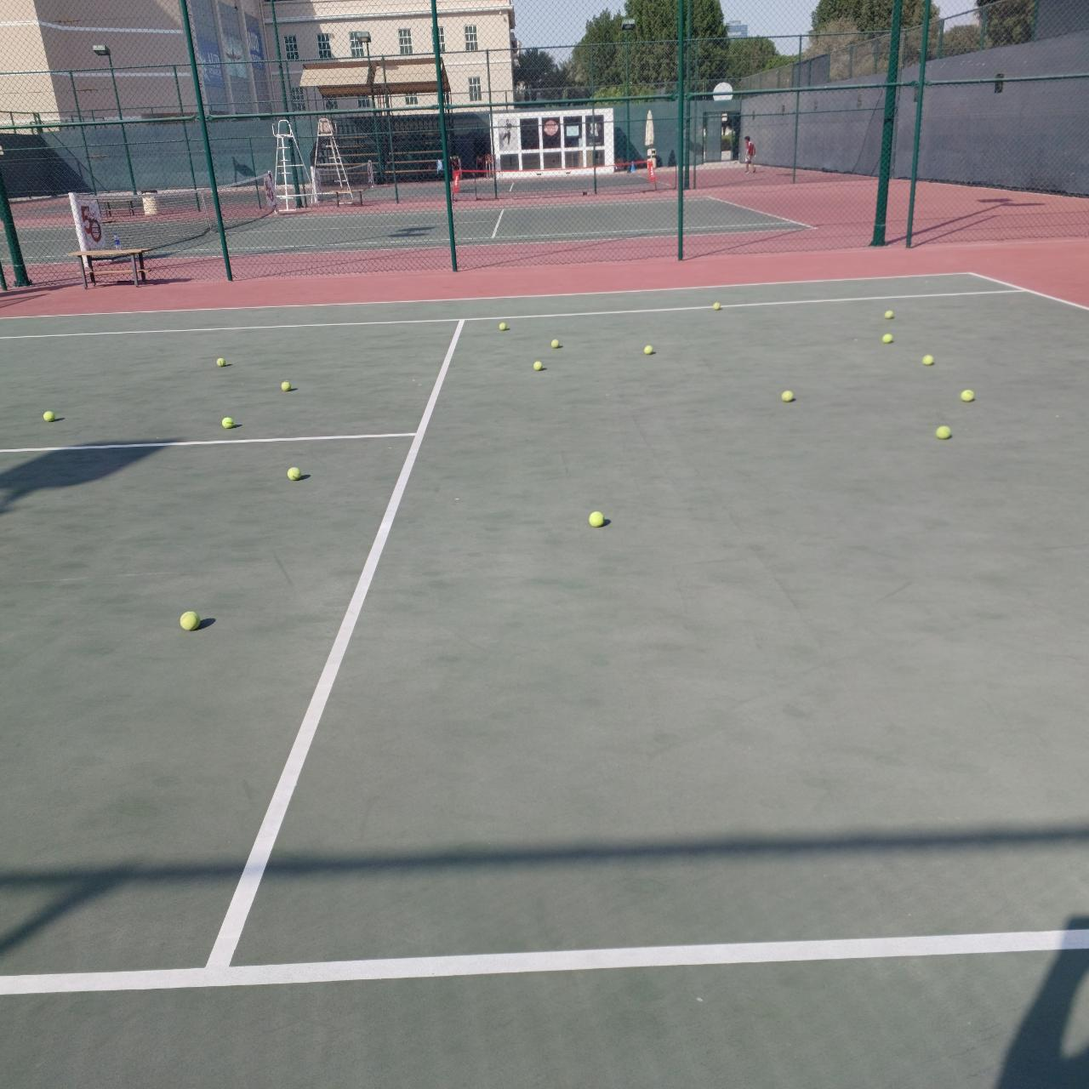tennis-ball: (178, 608, 199, 630), (586, 509, 605, 527), (934, 423, 951, 439), (959, 387, 974, 402), (779, 388, 794, 402), (286, 465, 300, 480), (220, 414, 233, 428), (921, 352, 934, 366), (41, 408, 54, 422), (641, 342, 654, 355), (880, 331, 893, 344), (881, 307, 894, 319), (279, 379, 291, 391), (532, 358, 544, 370), (549, 336, 561, 348), (497, 320, 509, 331)
